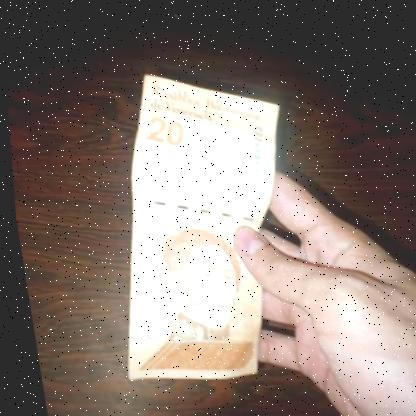twenty-front-vef: (78, 57, 318, 391)
